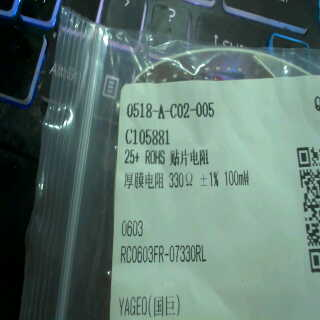330R: (167, 169, 197, 190)
